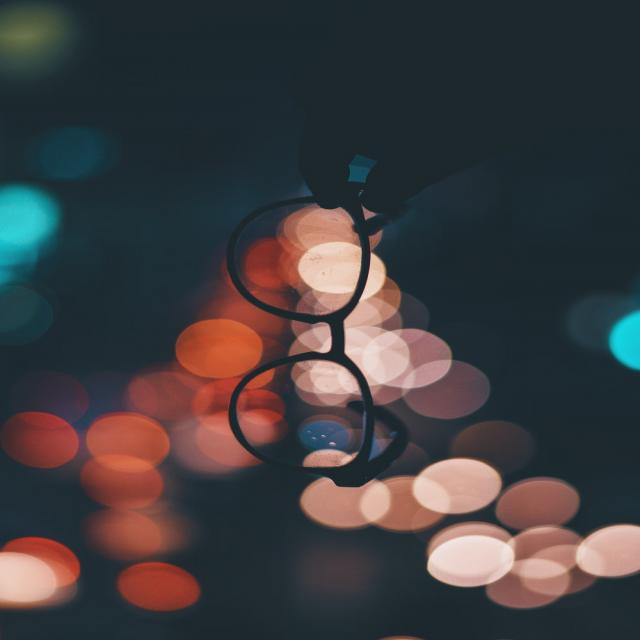Glasses: (222, 177, 420, 495)
